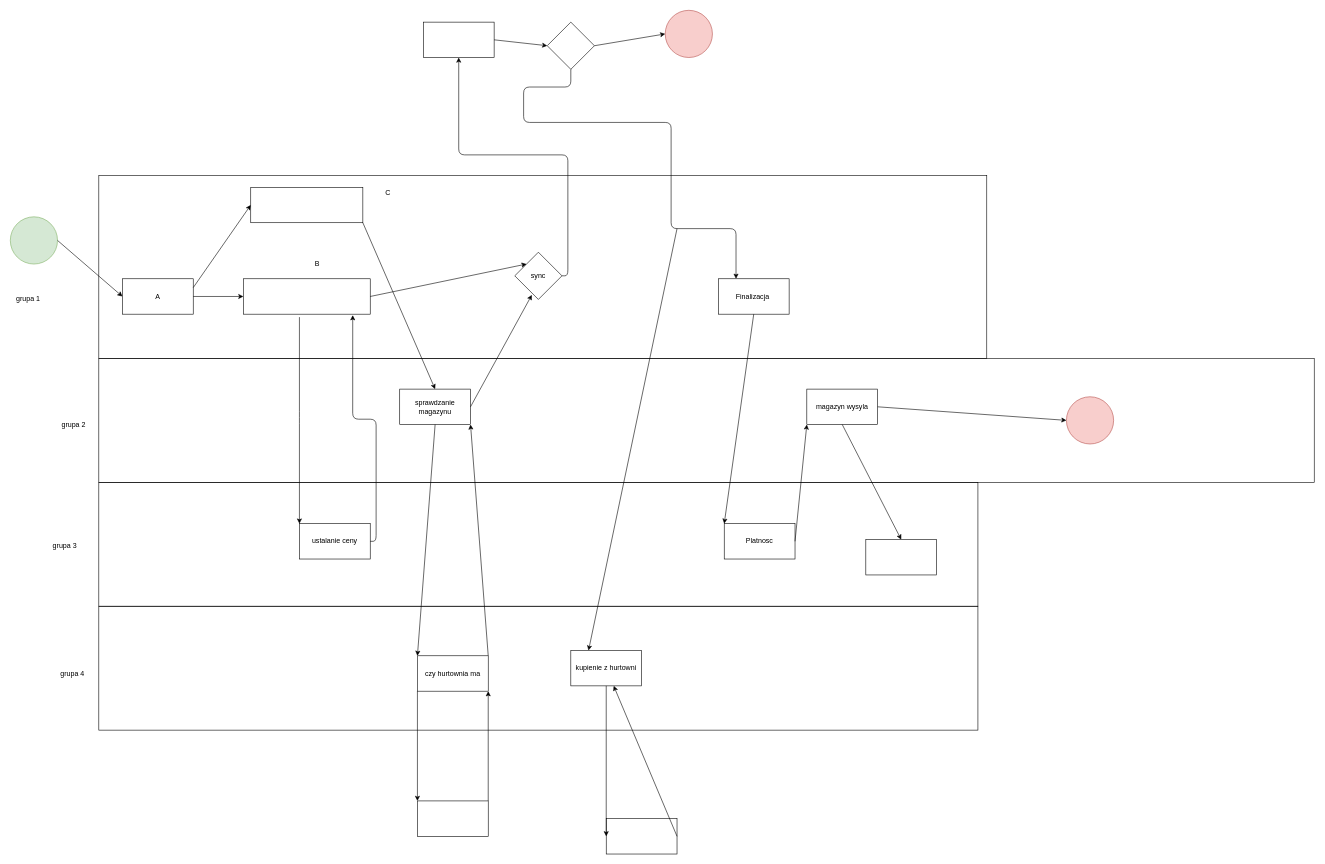
The diagram is 1325 pixels wide and 864 high, and some of its shapes have lost their labels. Here are the shapes that lost their labels. From the top down, the centre of each, then its label:
At point 458,40: "kilent fdecyzja".
At point 306,205: "sprawdzanie stanów magazynowych,".
At point 306,296: "upselling, cross-selling, (wydaje mi sie ze to jest ustalanie ceny".
At point 901,557: "zapisanie".
